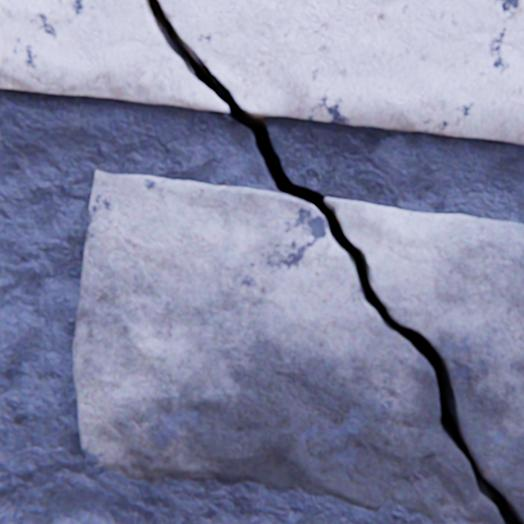broken_brick: (74, 170, 503, 523), (325, 197, 523, 519), (158, 0, 523, 144), (0, 0, 228, 113)
crack: (147, 0, 523, 523)
